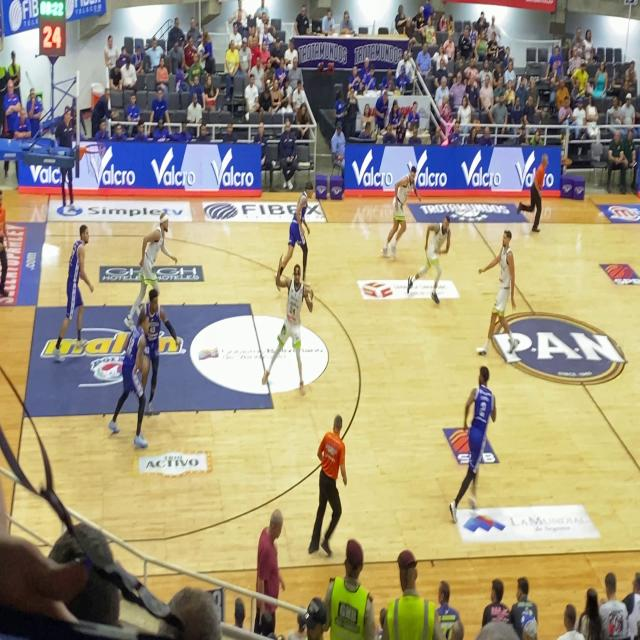Ball: (138, 354, 152, 386)
referee: (318, 409, 349, 554), (532, 152, 548, 240), (2, 188, 12, 300)
team1: (488, 236, 517, 348), (282, 271, 308, 388), (144, 205, 171, 314), (390, 159, 415, 267), (428, 214, 448, 301)
team2: (459, 364, 493, 520), (141, 283, 172, 408), (278, 184, 312, 286), (65, 224, 91, 357), (125, 308, 151, 436)
ubasket: (81, 140, 108, 172)
